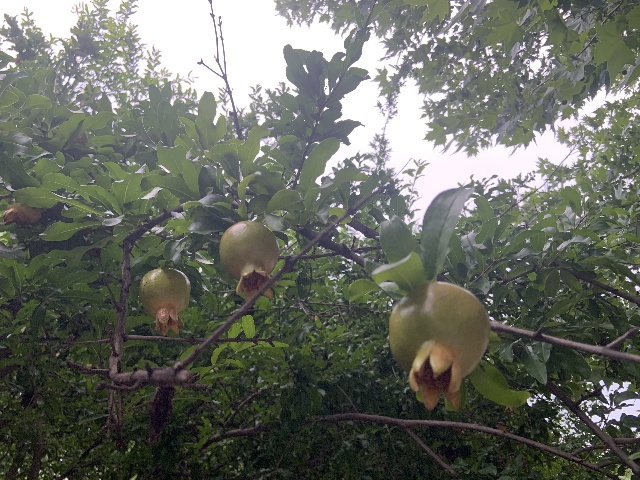mid-growth: (389, 281, 490, 410), (218, 220, 280, 303), (139, 266, 190, 336)
